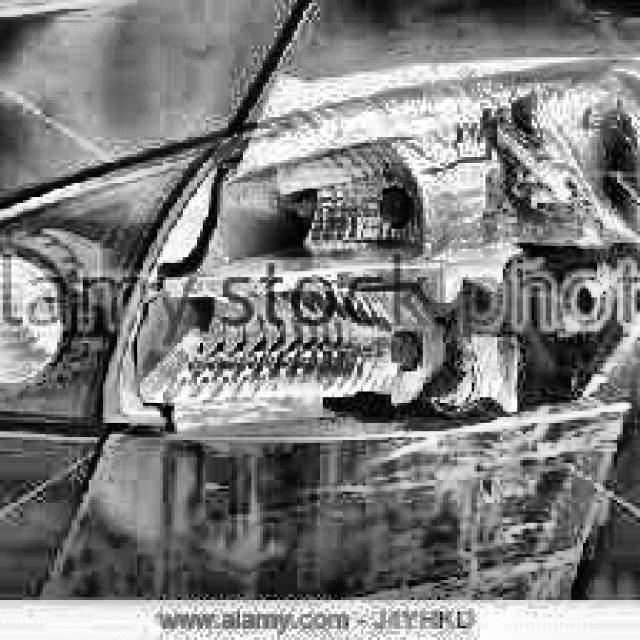tail_lamp: (129, 152, 633, 406)
